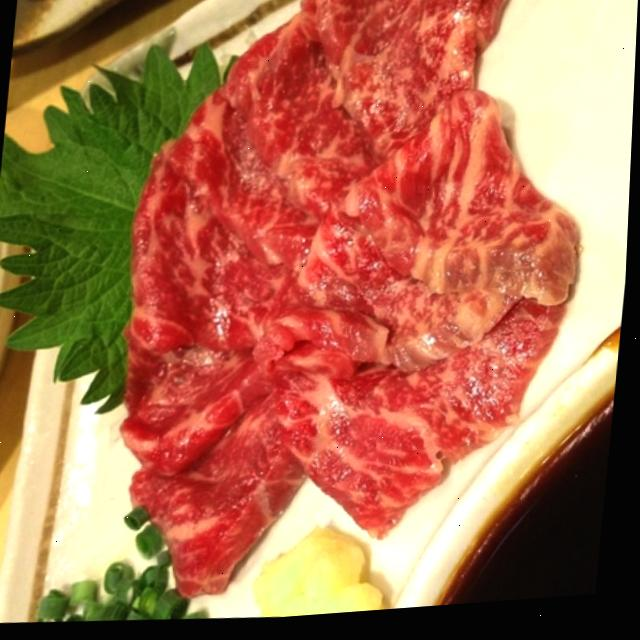刺身生食: (41, 0, 607, 636)
